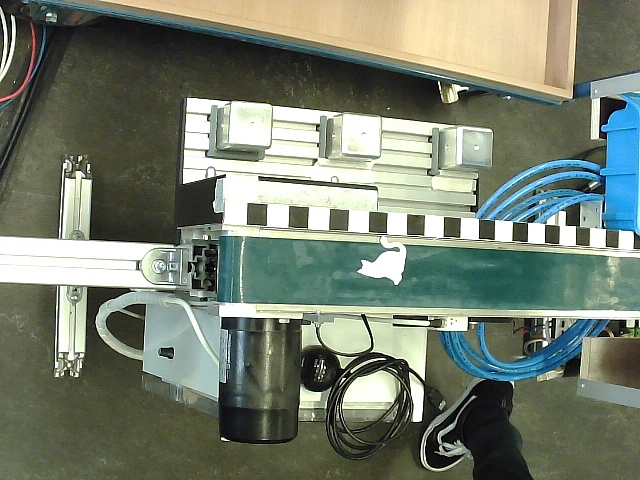cat: (357, 236, 407, 285)
